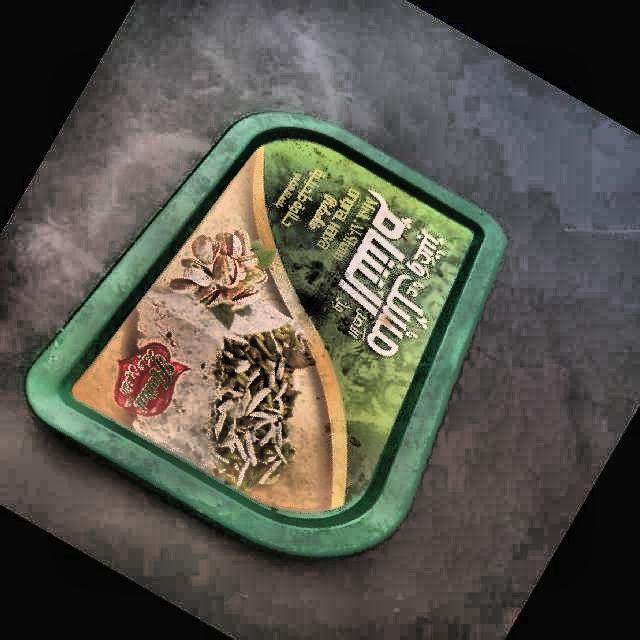plastic: (28, 115, 504, 554)
